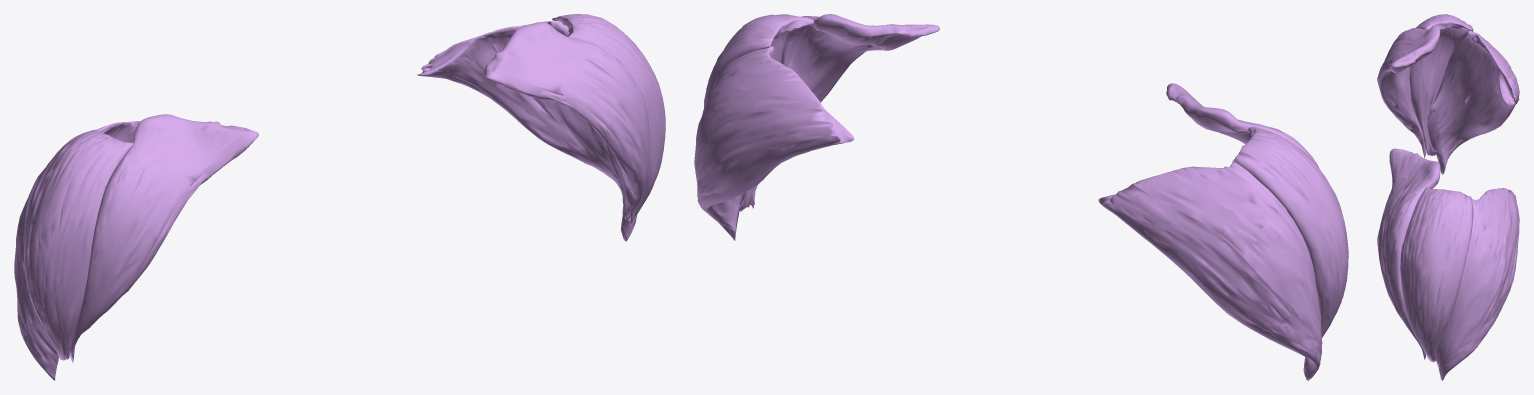
Rendered from deltoid_reference.glb.
3 renders of one model, left to right at view 1: azimuth 30°, elevation 25°; view 2: azimuth 150°, elevation 25°; view 3: azimuth 270°, elevation 25°, orthographic. The views are drawn at different scales.
Parts seen in each view (by area): view 1: Clavicular part of deltoid muscle.r, Acromial part of deltoid muscle.r, Clavicular part of deltoid muscle.l, Scapular spinal part of deltoid muscle.l, Acromial part of deltoid muscle.l, Scapular spinal part of deltoid muscle.r; view 2: Scapular spinal part of deltoid muscle.r, Scapular spinal part of deltoid muscle.l, Acromial part of deltoid muscle.r, Clavicular part of deltoid muscle.l, Acromial part of deltoid muscle.l, Clavicular part of deltoid muscle.r; view 3: Acromial part of deltoid muscle.l, Scapular spinal part of deltoid muscle.l, Scapular spinal part of deltoid muscle.r, Clavicular part of deltoid muscle.l, Clavicular part of deltoid muscle.r, Acromial part of deltoid muscle.r.
Part boxes in pixels (box(x1,y1,x2,y2)): Clavicular part of deltoid muscle.r: box(70, 114, 258, 362); Acromial part of deltoid muscle.r: box(23, 129, 133, 360); Clavicular part of deltoid muscle.l: box(484, 22, 650, 226); Scapular spinal part of deltoid muscle.l: box(417, 21, 636, 241); Acromial part of deltoid muscle.l: box(552, 14, 665, 221); Scapular spinal part of deltoid muscle.r: box(14, 121, 140, 380); Scapular spinal part of deltoid muscle.r: box(1098, 159, 1322, 380); Scapular spinal part of deltoid muscle.l: box(694, 46, 854, 240); Acromial part of deltoid muscle.r: box(1234, 126, 1348, 337); Clavicular part of deltoid muscle.l: box(752, 14, 939, 208); Acromial part of deltoid muscle.l: box(704, 14, 813, 211); Clavicular part of deltoid muscle.r: box(1166, 83, 1318, 167); Acromial part of deltoid muscle.l: box(1400, 187, 1473, 362); Scapular spinal part of deltoid muscle.l: box(1435, 188, 1519, 380); Scapular spinal part of deltoid muscle.r: box(1427, 30, 1519, 174); Clavicular part of deltoid muscle.l: box(1377, 148, 1440, 359); Clavicular part of deltoid muscle.r: box(1377, 25, 1440, 157); Acromial part of deltoid muscle.r: box(1409, 14, 1473, 155).
Size of the model in its own units: 0.4698 by 0.1729 by 0.1234.
